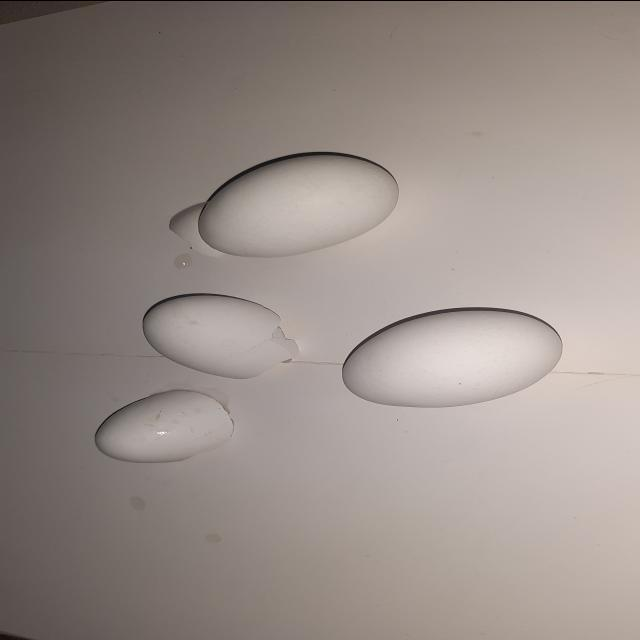egg shell: (166, 150, 405, 258), (337, 305, 566, 409), (138, 291, 300, 380), (89, 386, 242, 464)
